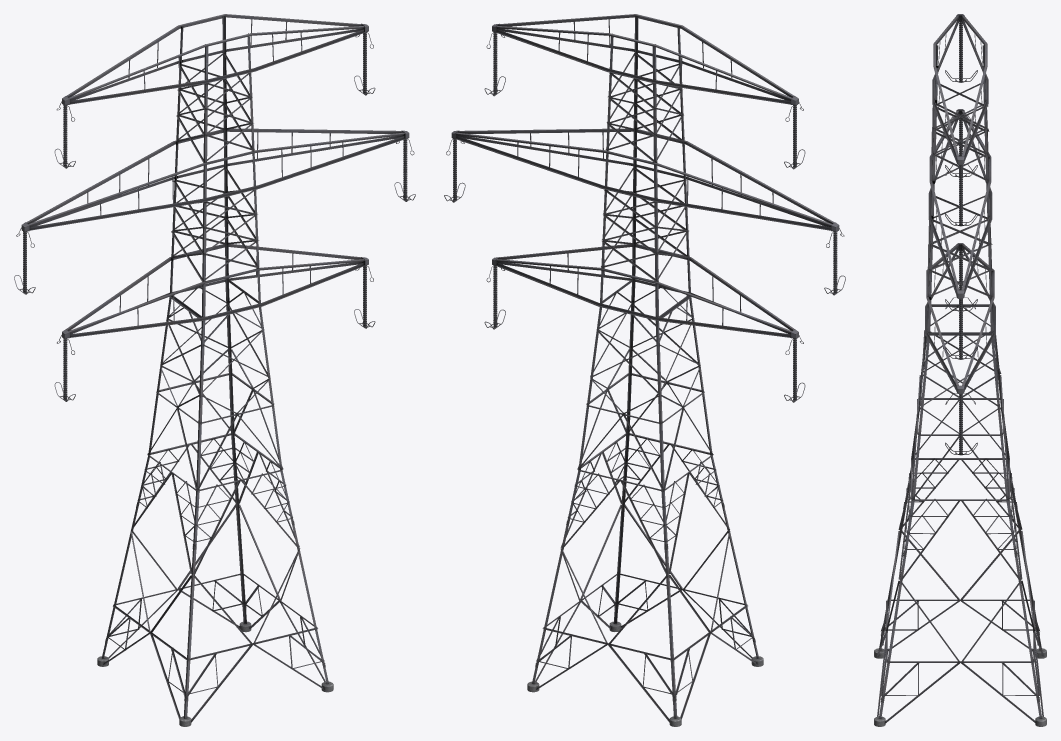
The model's file is transmission_tower.FBX.
3 renders of one model, left to right at view 1: azimuth 30°, elevation 25°; view 2: azimuth 150°, elevation 25°; view 3: azimuth 270°, elevation 25°, orthographic.
Parts seen in each view (by area): view 1: tower; view 2: tower; view 3: tower.
Boxes of the visible parts, <box> form: tower: <box>14,14,415,726</box>; tower: <box>444,14,845,726</box>; tower: <box>874,14,1046,726</box>.
Bounding box in the file's own units: 857 × 1369 × 338.
